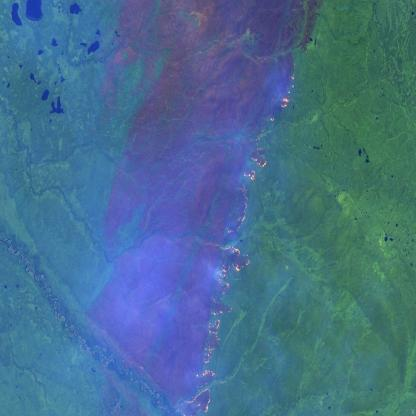fire: (174, 70, 297, 416)
